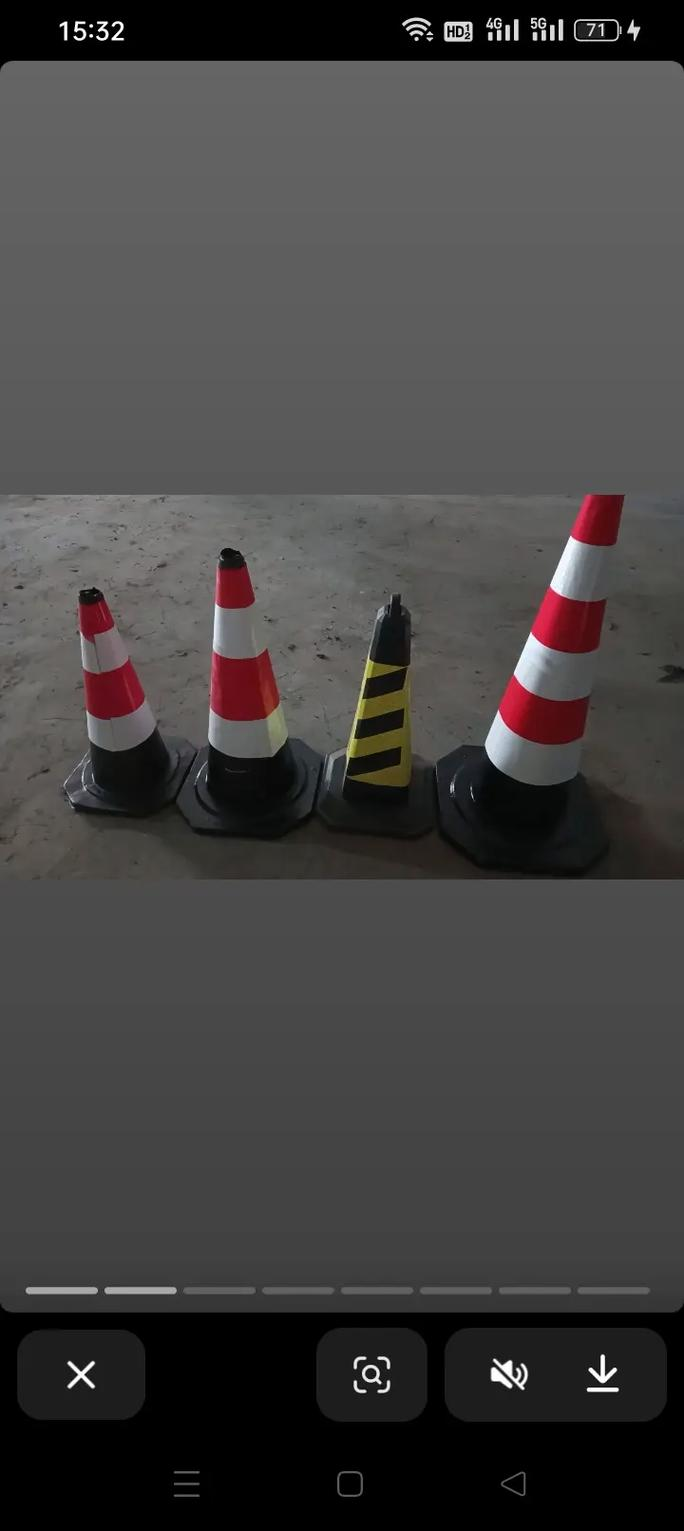traffic_cone: (54, 552, 429, 844), (463, 499, 620, 854)
